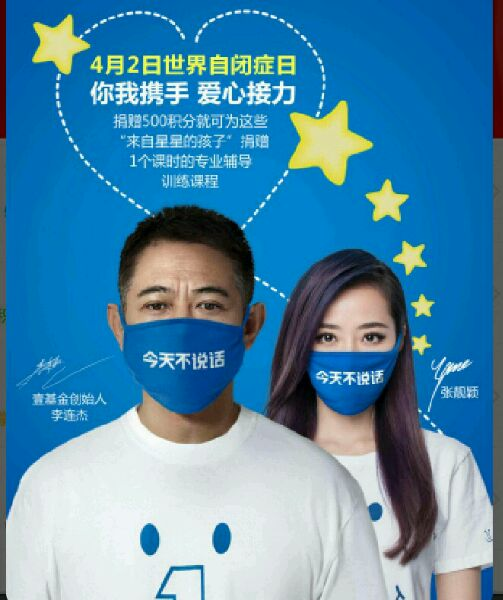face_mask: (124, 237, 243, 407), (306, 281, 397, 414)
